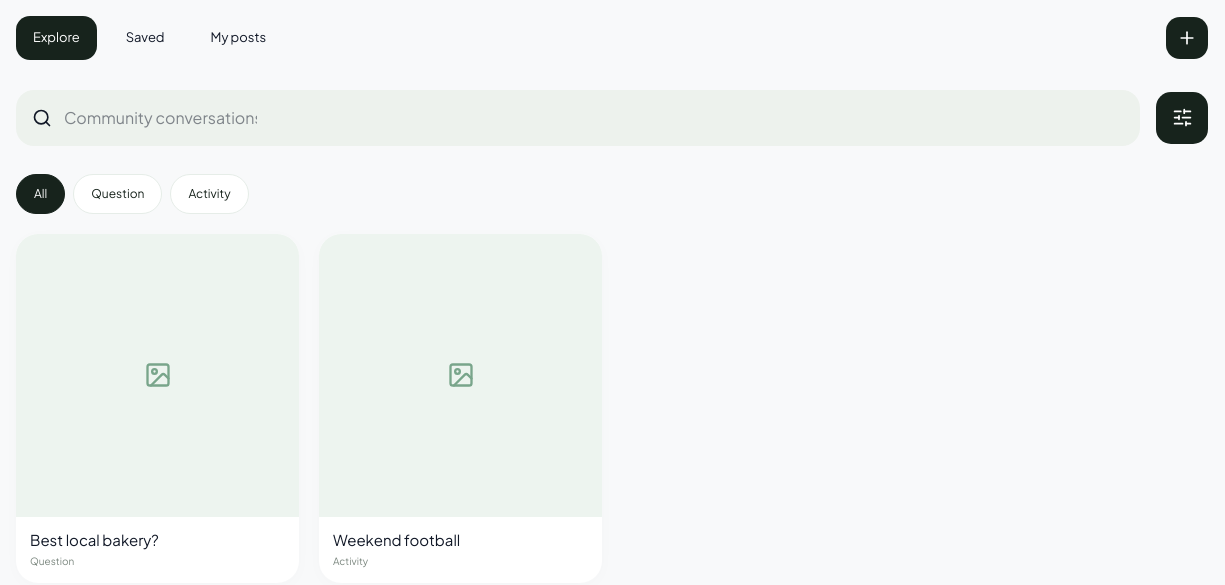
Test: community discovery searches posts and lists only matching conversations
Expected: the heading "Best local bakery?" is shown, [30, 530, 159, 548]
Type "bakery" into the field named "Search" at (160, 118), box [64, 90, 257, 146]
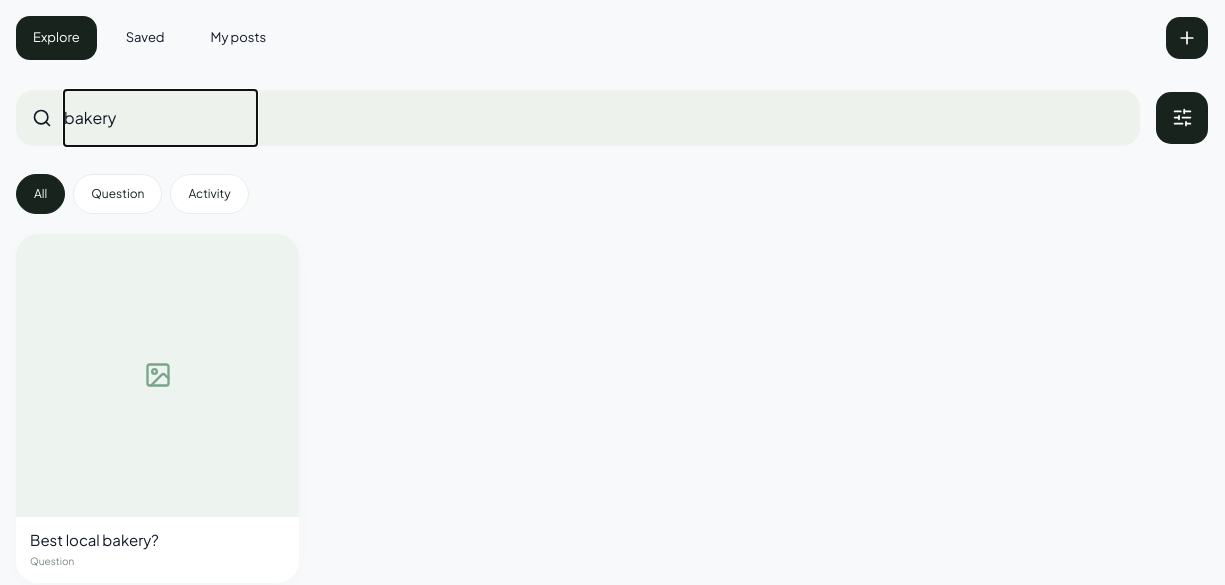
Expected: the heading "Best local bakery?" is shown, [30, 530, 159, 548]
Now the button "Weekend football" is gone
